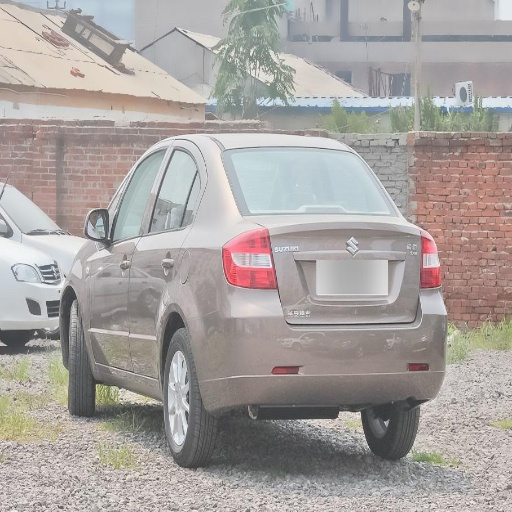back_bumper: (194, 285, 446, 417)
back_glass: (224, 147, 389, 211)
back_left_door: (131, 140, 202, 380)
